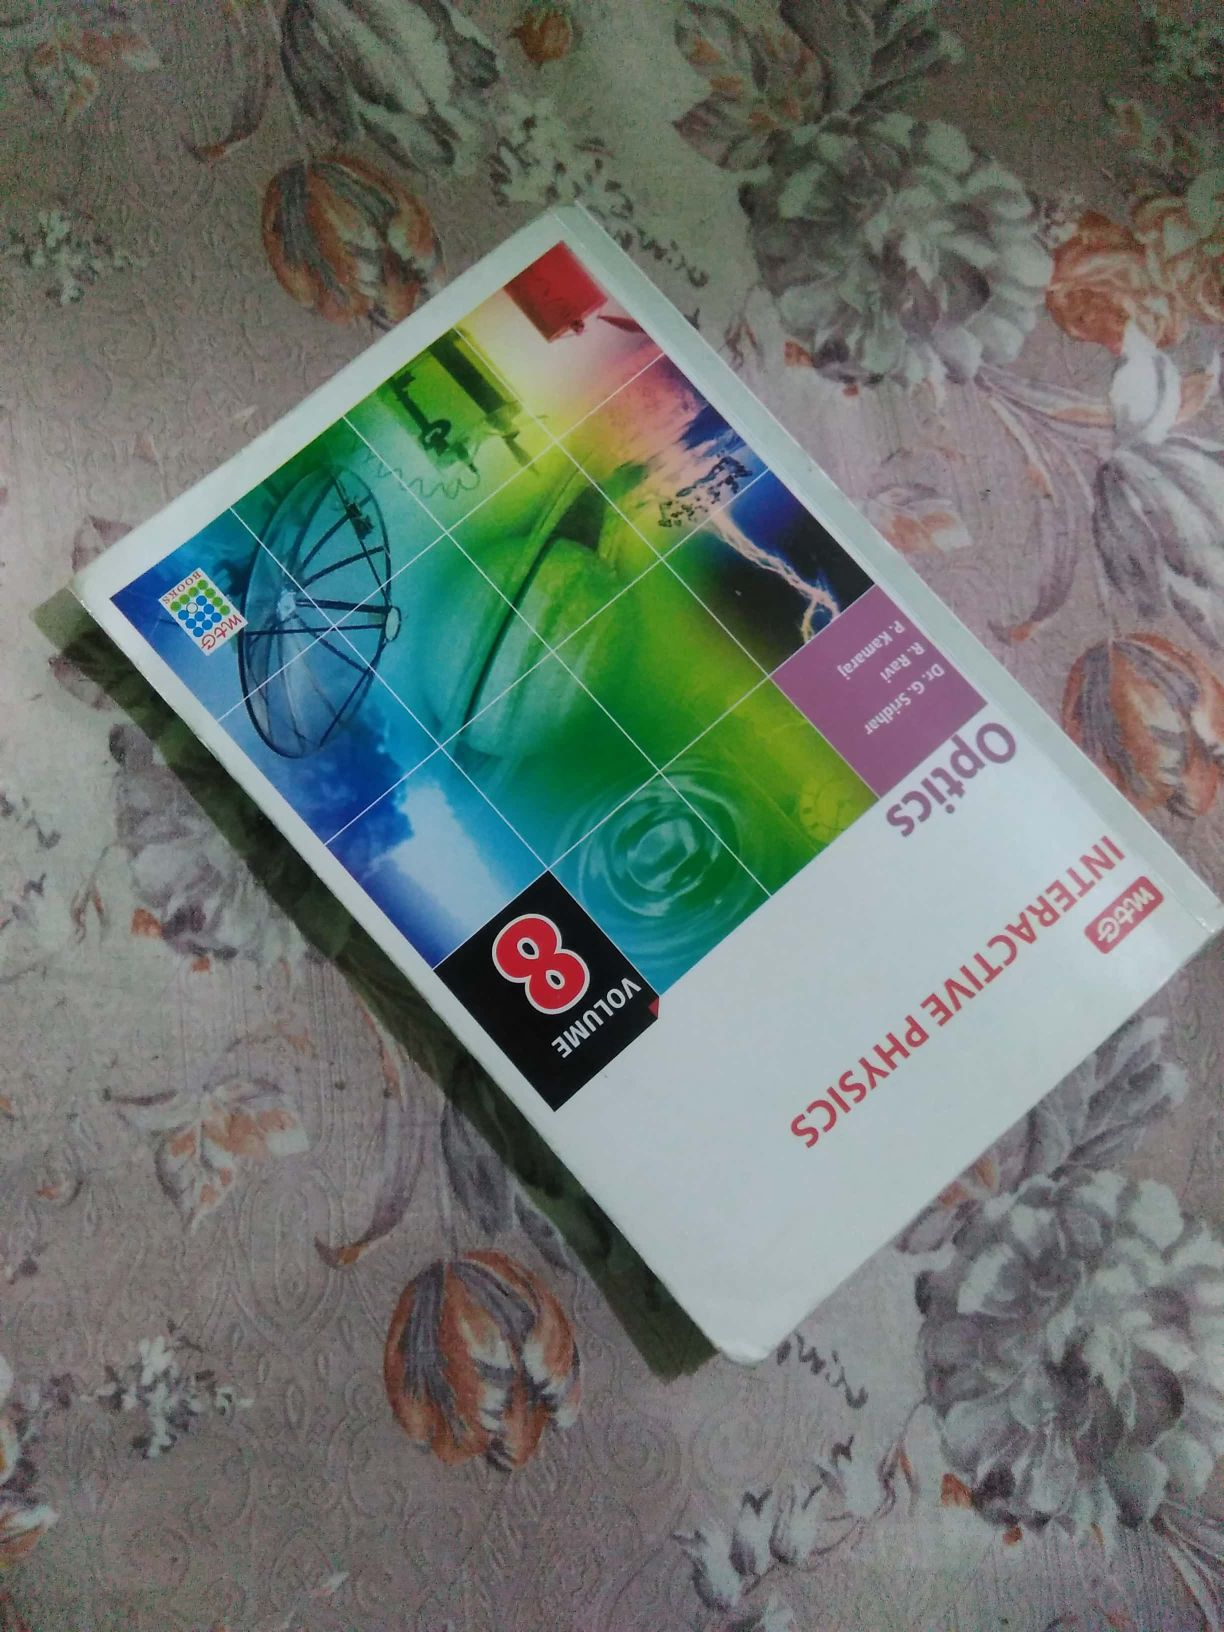optics: (59, 229, 1221, 1383)
